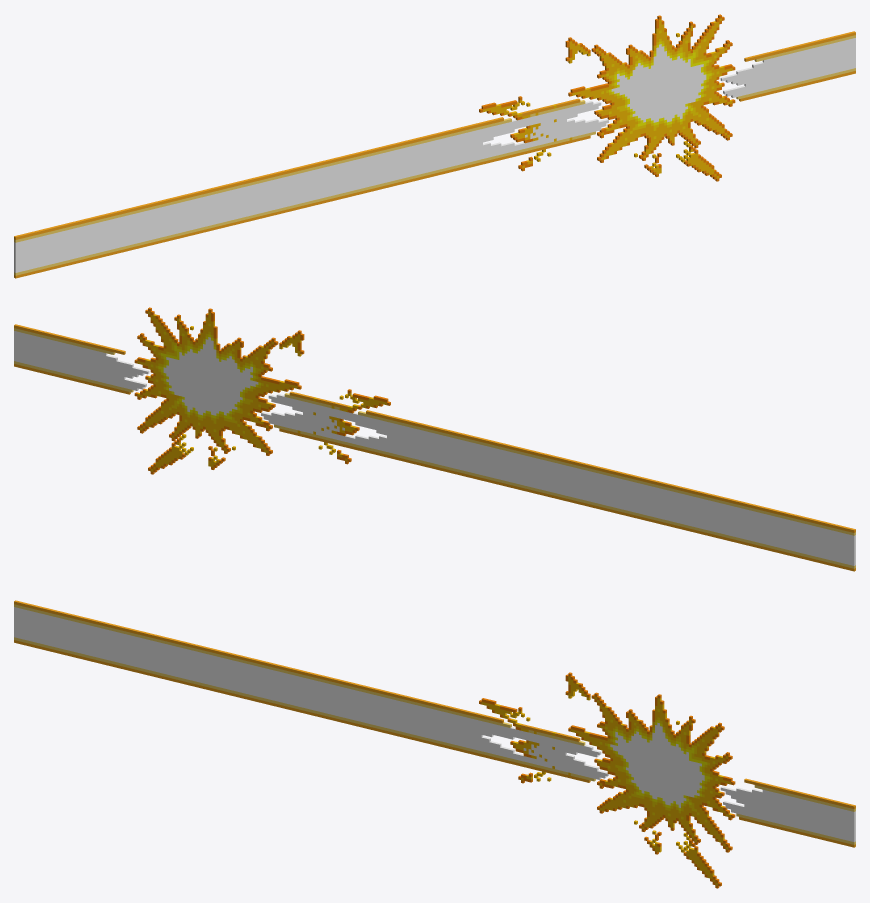
Rendered from Fight_749_2_27_fx.obj.
3 renders of one model, top to bottom at view 1: azimuth 30°, elevation 25°; view 2: azimuth 150°, elevation 25°; view 3: azimuth 330°, elevation 25°, orthographic.
Size of the model in its own units: 32 by 6.5 by 0.1.
